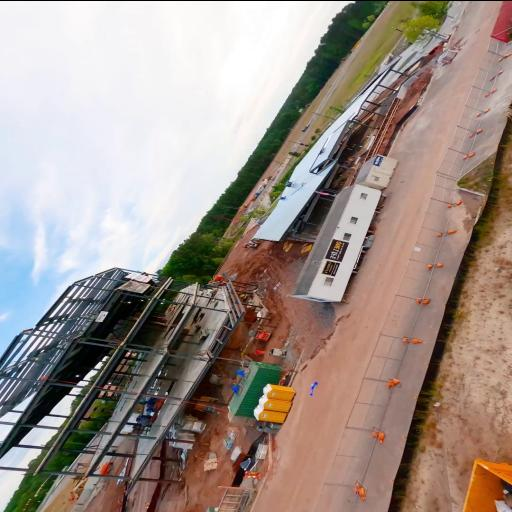uav: (305, 378, 321, 398)
